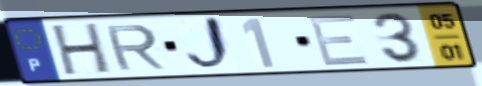1: (240, 16, 277, 69)
3: (371, 11, 421, 65)
E: (305, 12, 373, 68)
H: (49, 21, 113, 78)
J: (184, 14, 238, 75)
R: (101, 23, 169, 73)
